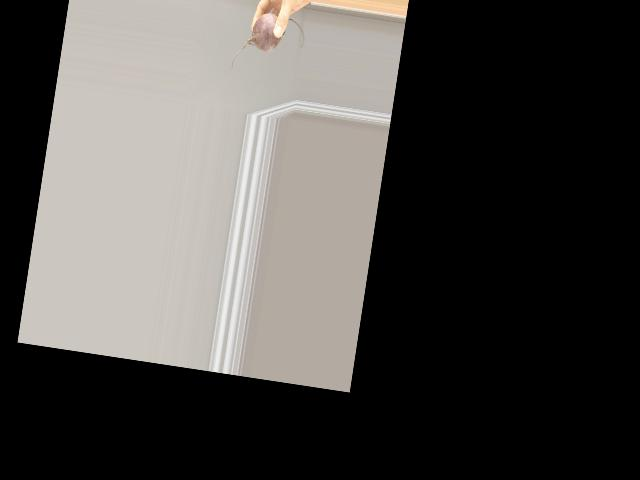beet: (231, 9, 307, 80)
